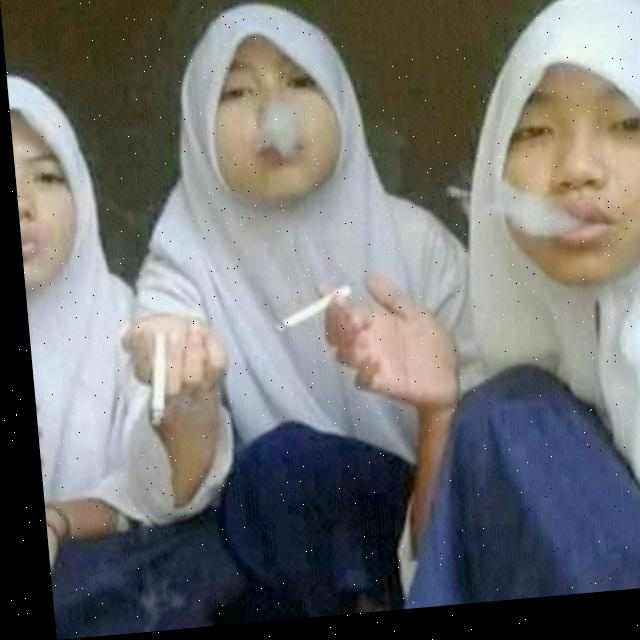cigarette: (263, 290, 350, 339), (134, 334, 166, 431)
